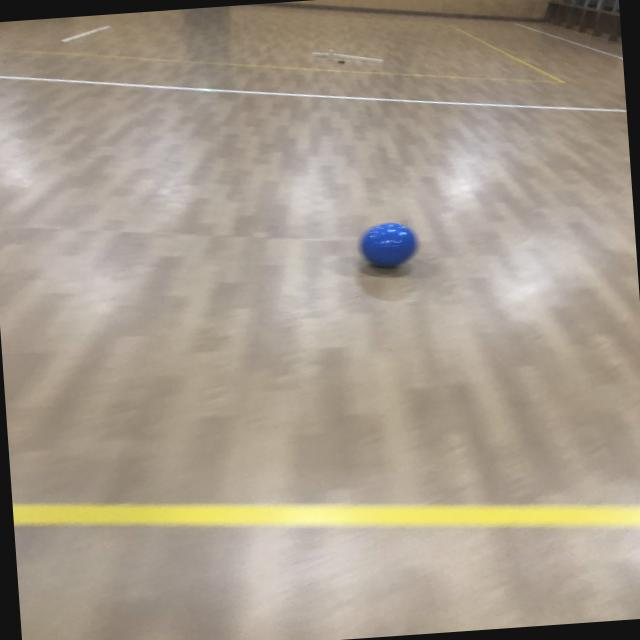blue_ball: (354, 218, 424, 270)
